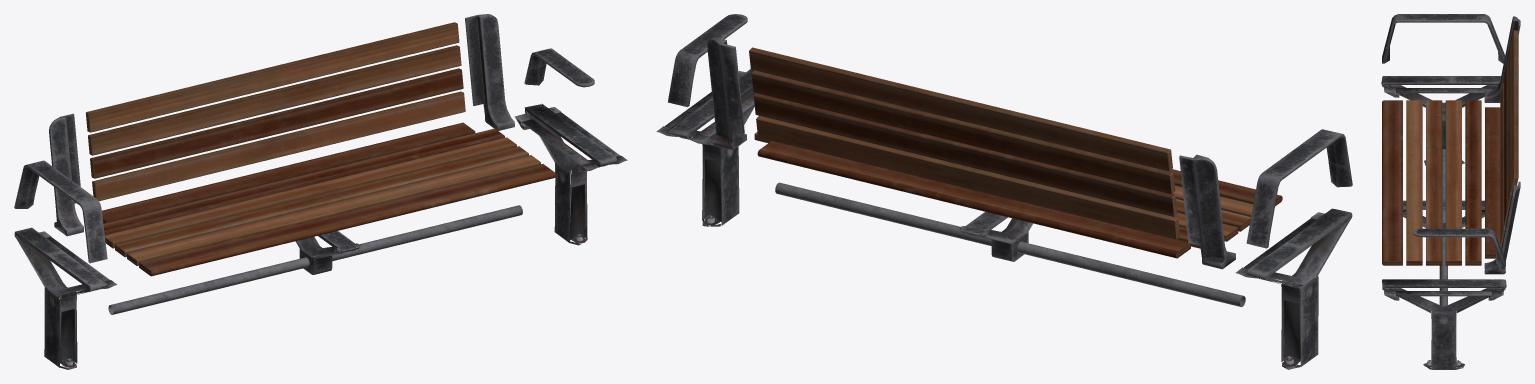
File: bench.gltf
The picture shows the model from 3 angles, left to right: view 1: azimuth 30°, elevation 25°; view 2: azimuth 150°, elevation 25°; view 3: azimuth 270°, elevation 25°; orthographic projection. The views are drawn at different scales.
Visible parts, largest first — view 1: bench; view 2: bench; view 3: bench.
Boxes of the visible parts, <box> form: bench: <box>14,14,627,369</box>; bench: <box>656,14,1352,369</box>; bench: <box>1381,14,1520,369</box>.
Bounding box in the file's own units: 2.45 × 0.8669 × 0.6732.
3 materials, 3 textured.
